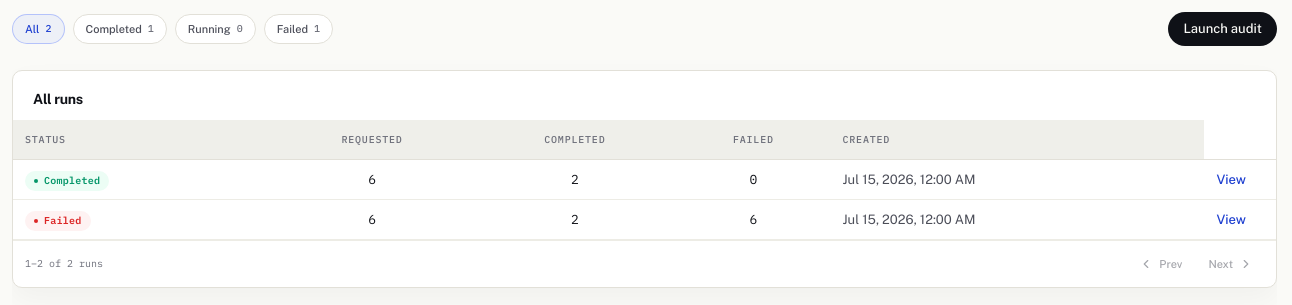
RunsPage › filters the runs list by status chip
Expected: the number of links "View" is 2, x1=1216 y1=172 x2=1246 y2=187; x1=1216 y1=212 x2=1246 y2=227
Expected: the button "All 2" is shown, x1=12 y1=14 x2=64 y2=44
Click the button "Failed 1".
click(298, 29)  # box x1=264 y1=14 x2=333 y2=44
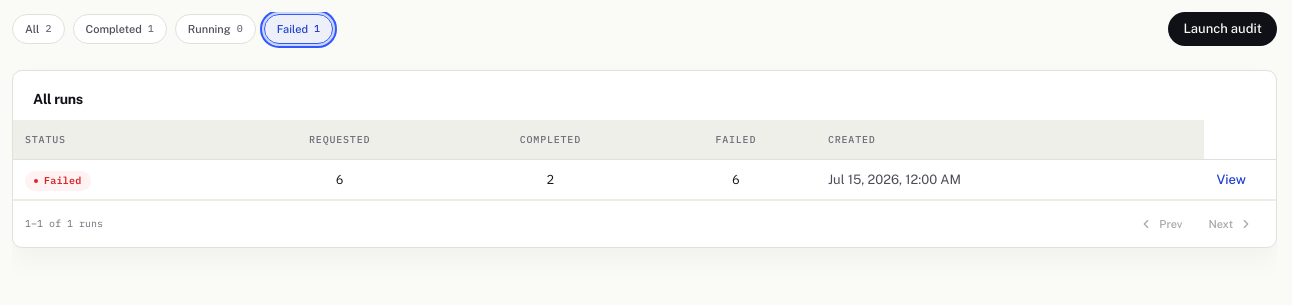
Result: the number of links "View" is 1 at x1=1216 y1=172 x2=1246 y2=187
Result: the text "1–1 of 1 runs" is shown at x1=25 y1=218 x2=103 y2=230
